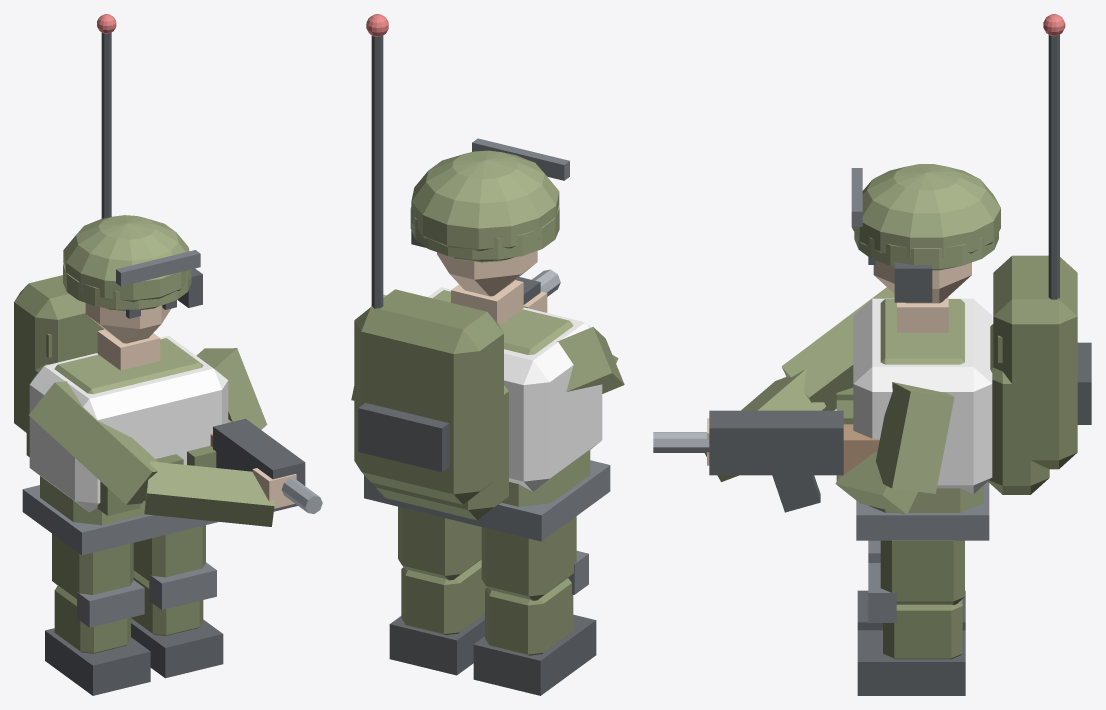
File: radioman.glb
The picture shows the model from 3 angles, left to right: view 1: azimuth 30°, elevation 25°; view 2: azimuth 150°, elevation 25°; view 3: azimuth 270°, elevation 25°; orthographic projection. The views are drawn at different scales.
Parts seen in each view (by area): view 1: main, shinl, shinr, legl, legr; view 2: main, shinl, shinr, legl, legr; view 3: main, shinr, legr, shinl.
Boxes of the visible parts, x1=… form: main: x1=14, y1=14, x2=322, y2=555; shinl: x1=45, y1=580, x2=150, y2=695; shinr: x1=131, y1=562, x2=223, y2=678; legl: x1=52, y1=533, x2=133, y2=599; legr: x1=133, y1=525, x2=205, y2=581; main: x1=351, y1=14, x2=624, y2=541; shinl: x1=473, y1=551, x2=596, y2=695; shinr: x1=389, y1=559, x2=486, y2=675; legl: x1=481, y1=516, x2=576, y2=600; legr: x1=398, y1=506, x2=481, y2=580; main: x1=653, y1=14, x2=1091, y2=540; shinr: x1=857, y1=563, x2=965, y2=695; legr: x1=880, y1=540, x2=964, y2=605; shinl: x1=857, y1=540, x2=965, y2=630.
Size of the model in its own units: 0.3161 by 0.782 by 0.4673.
